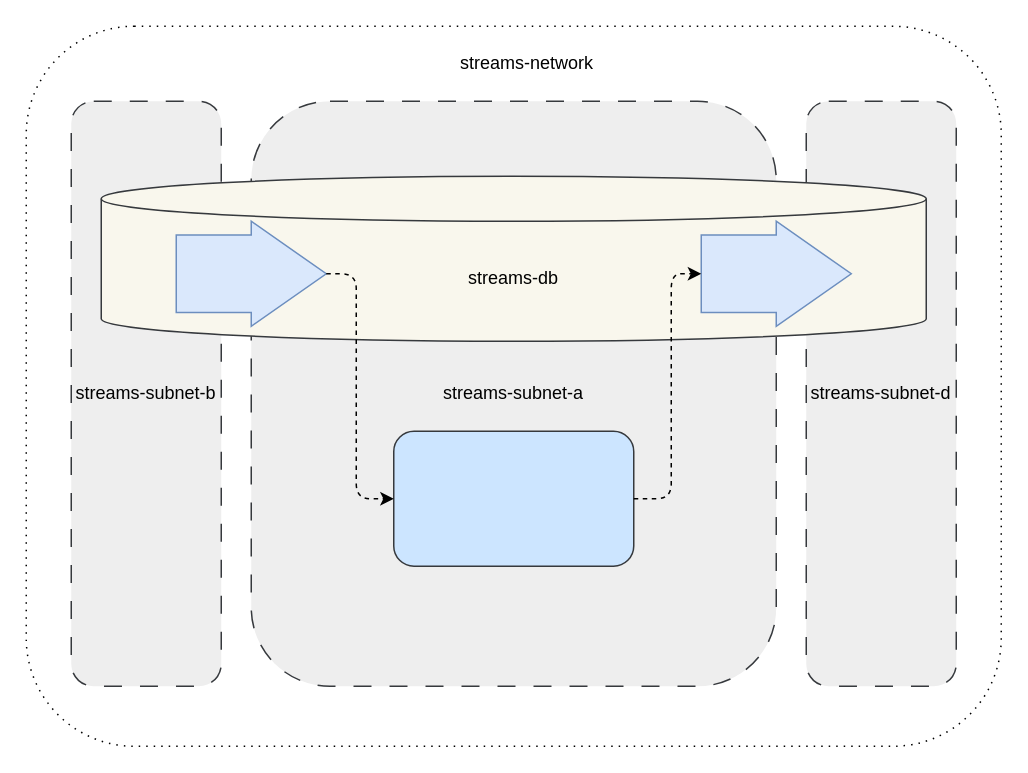
Image size: 1028x773. Some labels were removed from this diagram. Here are the shapes that lost their labels. From the top down, the centre of each, then its label:
At point 250,273: "payment-in".
At point 775,273: "payment-out".
At point 513,498: "flink-vm".
